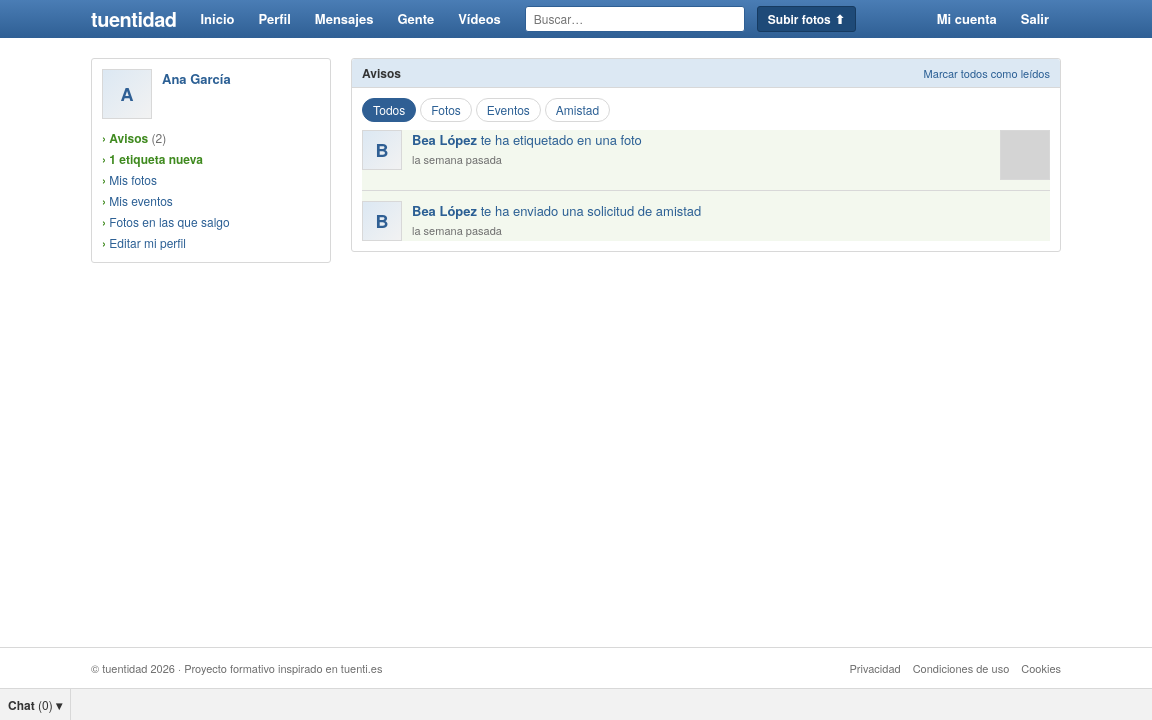
Test case: Notifications › lists the notifications and marks them all as read from the button
Expected: the link named "Avisos (2) sin leer" is shown, [109,129,166,147]
What coordinates should you click on to do the following:
click the button "Marcar todos como leídos"
I would click on:
 (987, 73)
Its box is [924,65,1050,81].
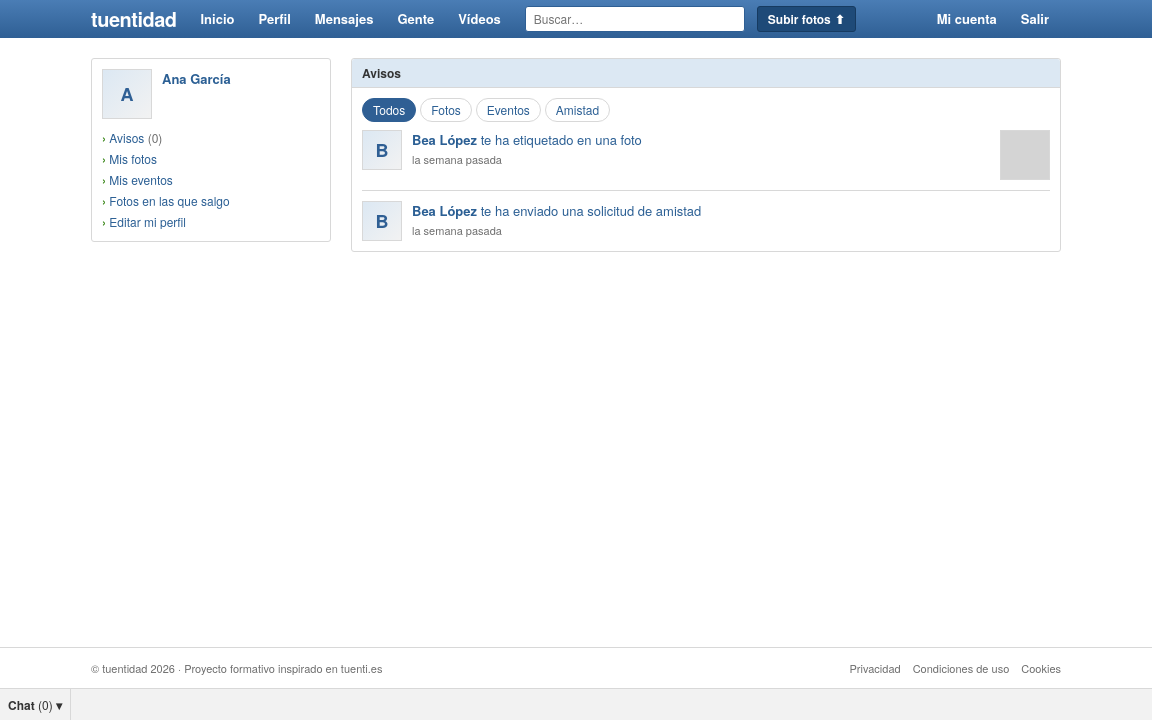
Expected: the text "(nuevo)" is not shown
Result: the link "Avisos (0)" is shown at [109,129,162,146]
